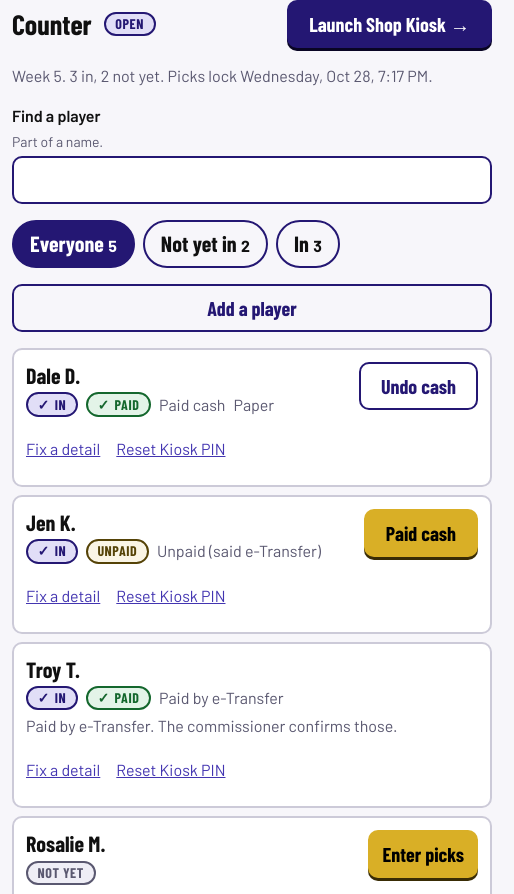
Test: CounterPage › finds a player by part of a name
Type "ros" into the search field labelled "Find a player" at (252, 180), box [12,156,492,204]
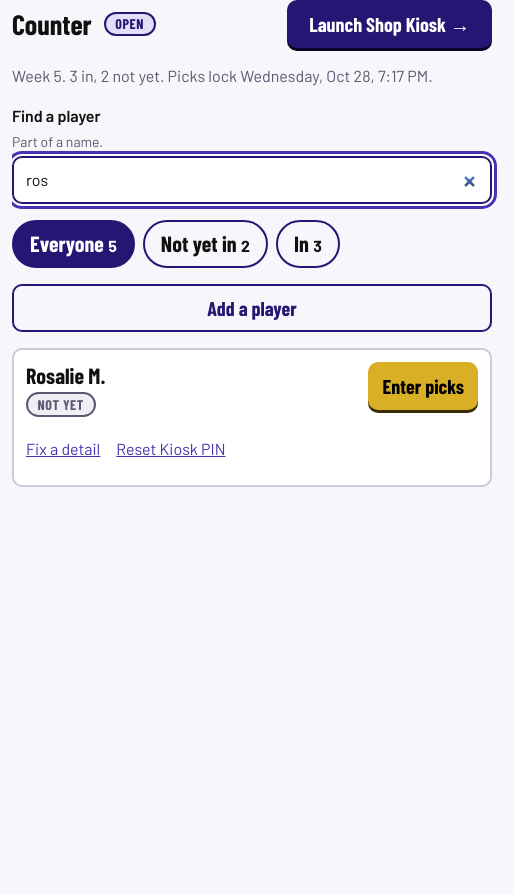
Check: the text "Rosalie M." is shown, box [26,362,105,388]
Check: the text "Dale D." is gone
